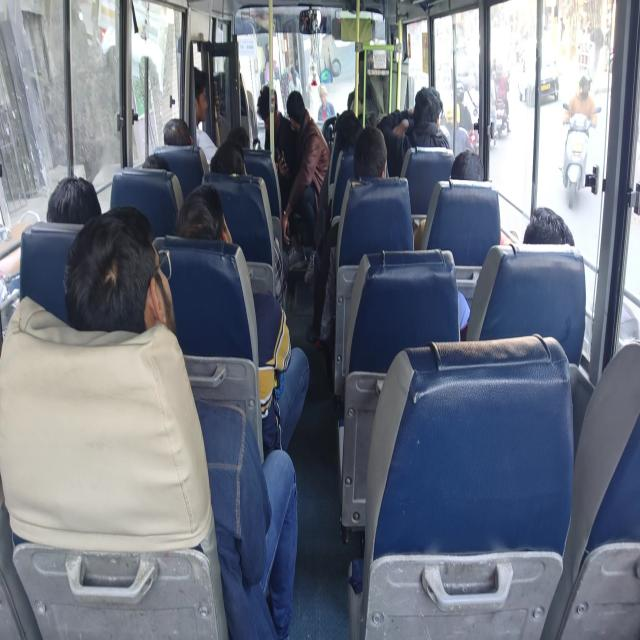person: (63, 206, 299, 638), (175, 183, 310, 457), (306, 126, 389, 346), (0, 175, 102, 338), (458, 206, 575, 334), (278, 89, 330, 266), (413, 148, 484, 250), (562, 72, 598, 205), (256, 84, 296, 180), (392, 85, 449, 149), (175, 183, 232, 243), (46, 174, 102, 224), (190, 65, 218, 164), (522, 206, 574, 246), (563, 74, 597, 130), (210, 140, 247, 176), (450, 149, 484, 181), (162, 117, 192, 145), (317, 83, 335, 121)
